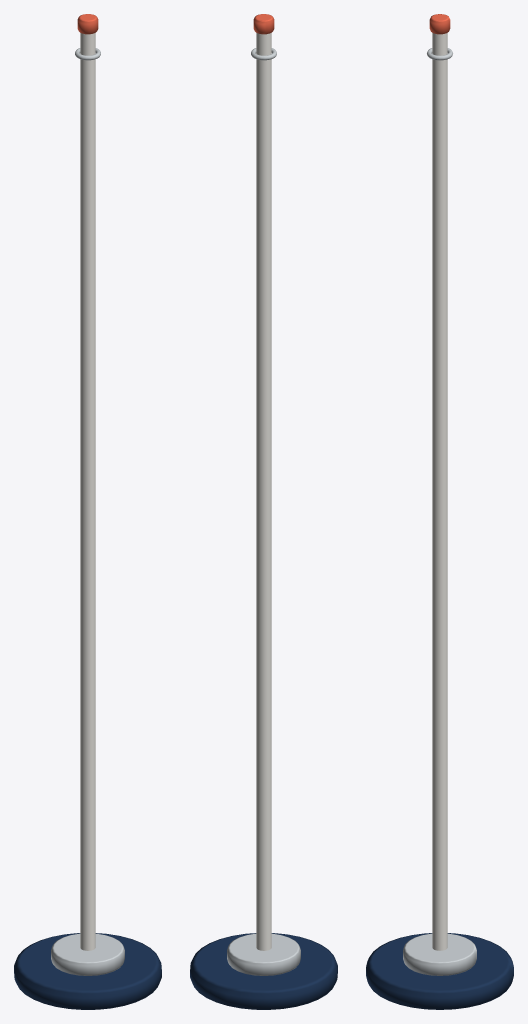
File: flag_post.glb
The picture shows the model from 3 angles, left to right: view 1: azimuth 30°, elevation 25°; view 2: azimuth 150°, elevation 25°; view 3: azimuth 270°, elevation 25°; orthographic projection.
Visible parts, largest first — view 1: FlagPostMesh; view 2: FlagPostMesh; view 3: FlagPostMesh.
Part boxes in pixels (x1,y1,x2,y2): FlagPostMesh: (14, 14, 161, 1009); FlagPostMesh: (190, 14, 337, 1009); FlagPostMesh: (366, 14, 513, 1009).
Bounding box in the file's own units: 0.48 × 3.45 × 0.48.
